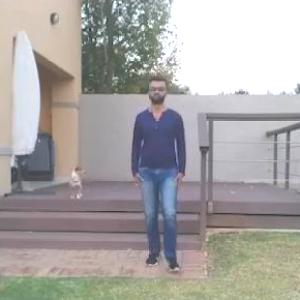follow: (139, 70, 189, 274)
